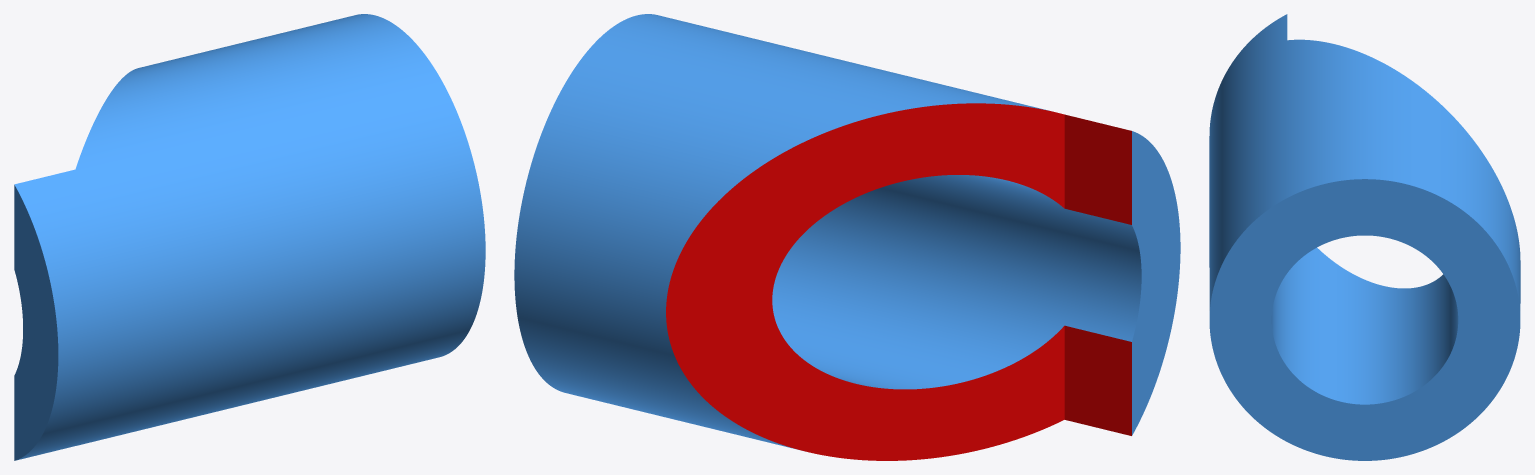
The picture shows the model from 3 angles, left to right: view 1: azimuth 30°, elevation 25°; view 2: azimuth 150°, elevation 25°; view 3: azimuth 270°, elevation 25°; orthographic projection. The views are drawn at different scales.
Parts seen in each view (by area): view 1: 拉伸2; view 2: 拉伸2; view 3: 拉伸2.
Part boxes in pixels (box(x1,y1,x2,y2)): 拉伸2: box(14, 14, 485, 460); 拉伸2: box(514, 14, 1180, 460); 拉伸2: box(1209, 14, 1520, 460).
Size of the model in its own units: 5.51 by 3.94 by 3.94.
